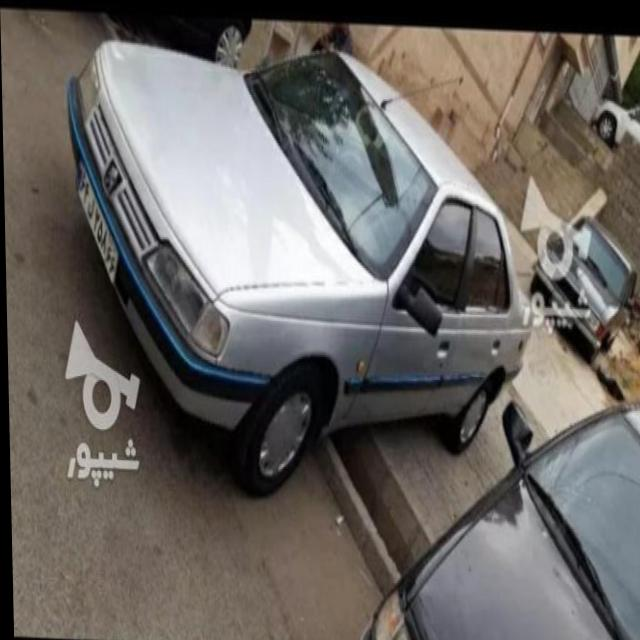licence: (73, 160, 118, 281)
